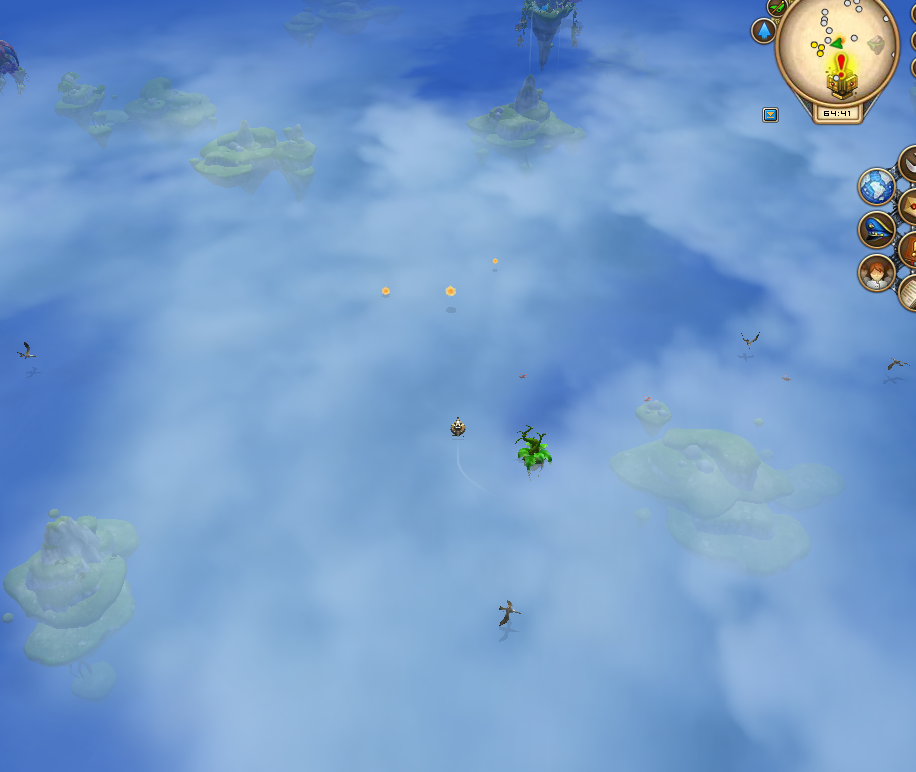dandelion-empty: (510, 419, 555, 479)
fluff: (442, 280, 458, 301), (487, 255, 502, 269), (377, 286, 393, 299)
